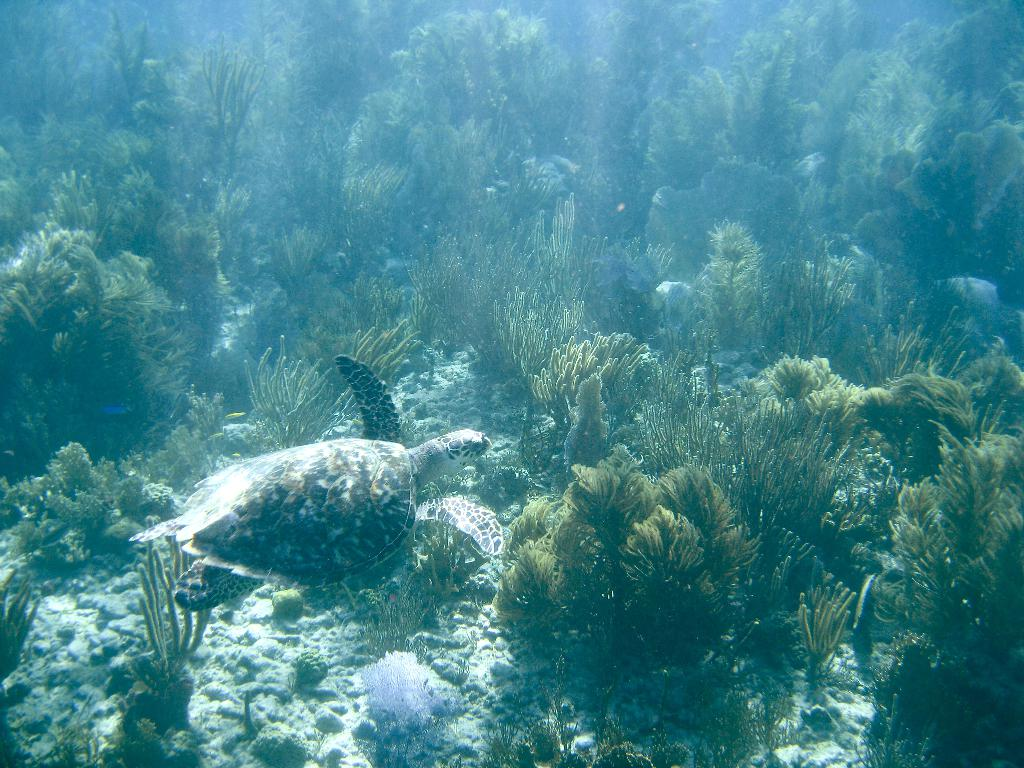Sea turtles: (122, 351, 503, 611)
